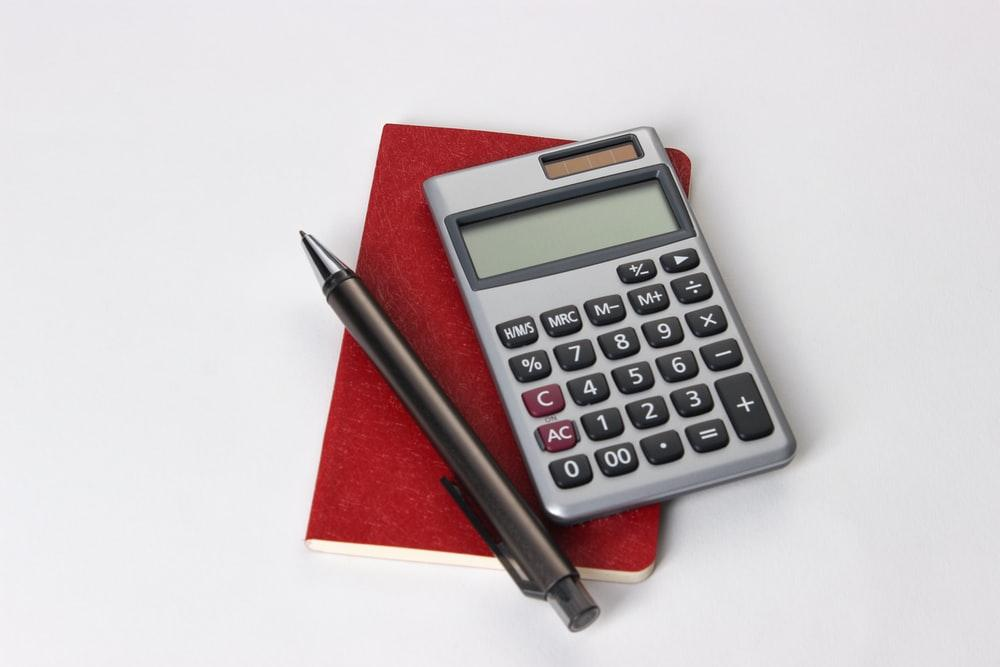Calculator: (417, 117, 807, 528)
